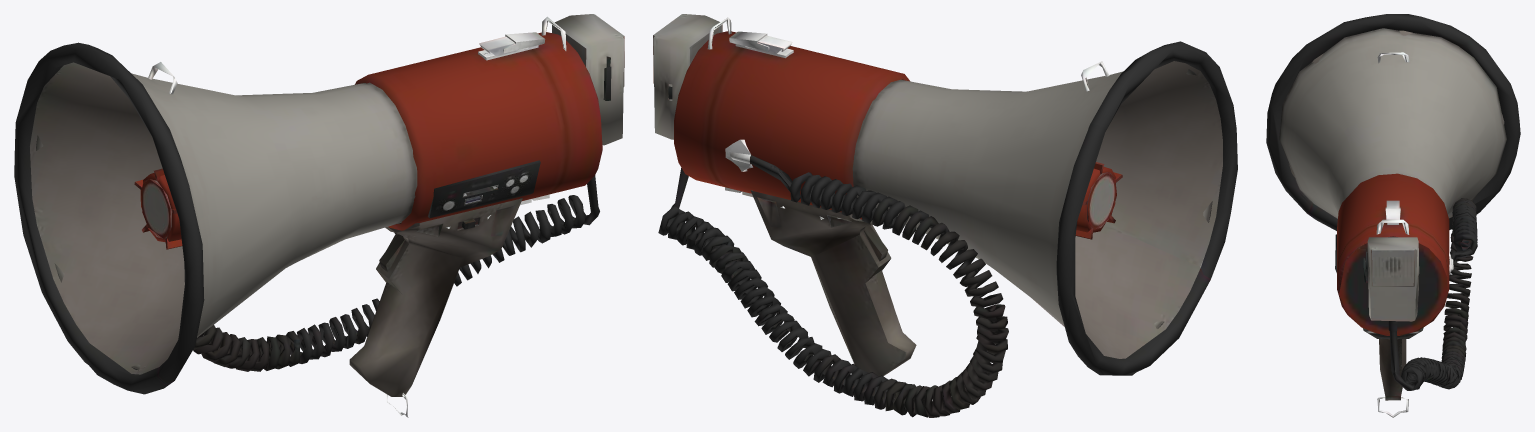
The model's file is megaphone_01.glb.
3 views of the same model, side by side, from view 1: azimuth 30°, elevation 25°; view 2: azimuth 150°, elevation 25°; view 3: azimuth 270°, elevation 25° (orthographic). The views are drawn at different scales.
Parts seen in each view (by area): view 1: Megaphone_01; view 2: Megaphone_01; view 3: Megaphone_01.
Part boxes in pixels (box(x1,y1,x2,y2)): Megaphone_01: box(14, 14, 624, 417); Megaphone_01: box(653, 14, 1237, 417); Megaphone_01: box(1266, 14, 1520, 417).
Bounding box in the file's own units: 0.3707 × 0.3001 × 0.2277.
1 material, 1 textured.
